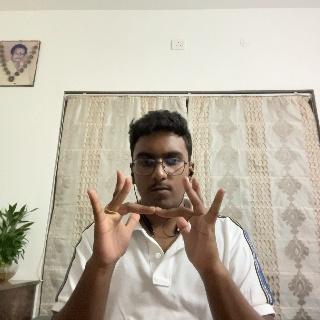Internet: (84, 169, 225, 276)
